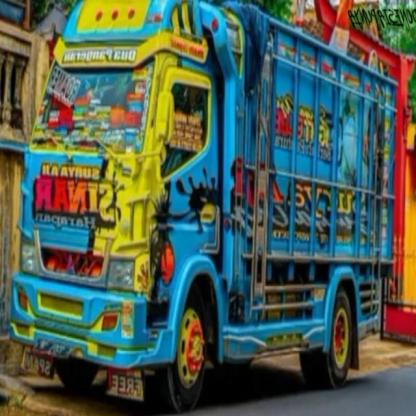truck: (11, 1, 399, 416)
